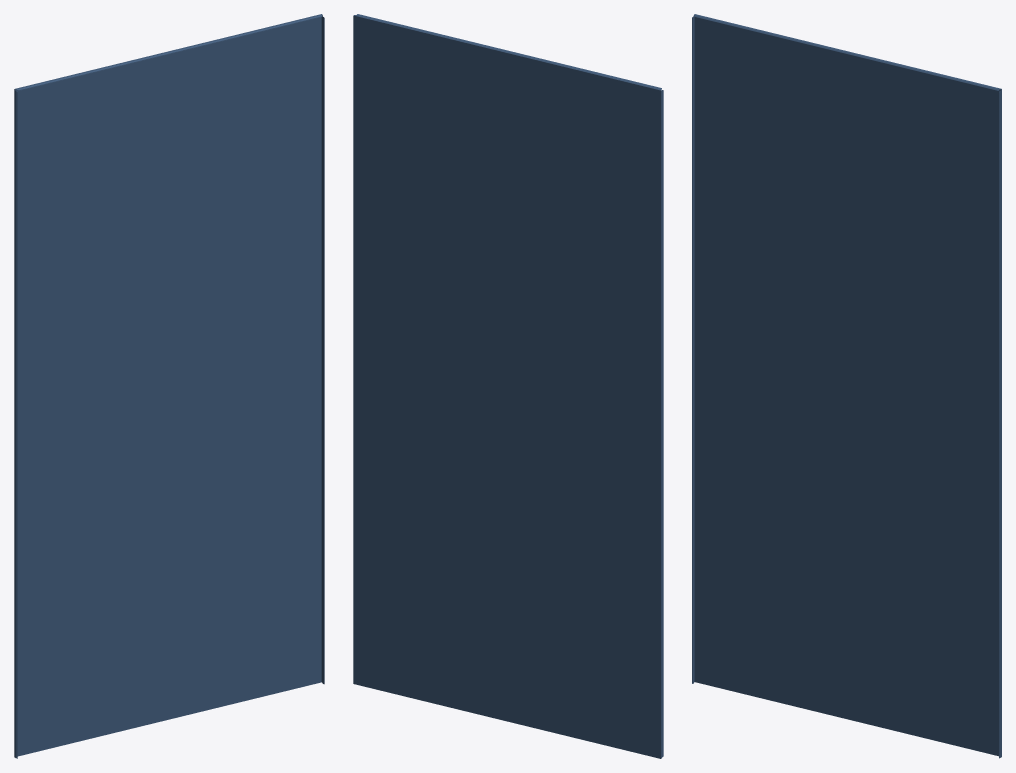
Rendered from VERGE_Model_Refrigerator_5.obj.
3 views of the same model, side by side, from view 1: azimuth 30°, elevation 25°; view 2: azimuth 150°, elevation 25°; view 3: azimuth 330°, elevation 25° (orthographic).
Parts seen in each view (by area): view 1: VERGE_Model_Refrigerator_5; view 2: VERGE_Model_Refrigerator_5; view 3: VERGE_Model_Refrigerator_5.
Part boxes in pixels (box(x1,y1,x2,y2)): VERGE_Model_Refrigerator_5: box(14, 14, 324, 758); VERGE_Model_Refrigerator_5: box(353, 14, 663, 758); VERGE_Model_Refrigerator_5: box(692, 14, 1001, 758).
Bounding box in the file's own units: 765 × 1590 × 12.12.
